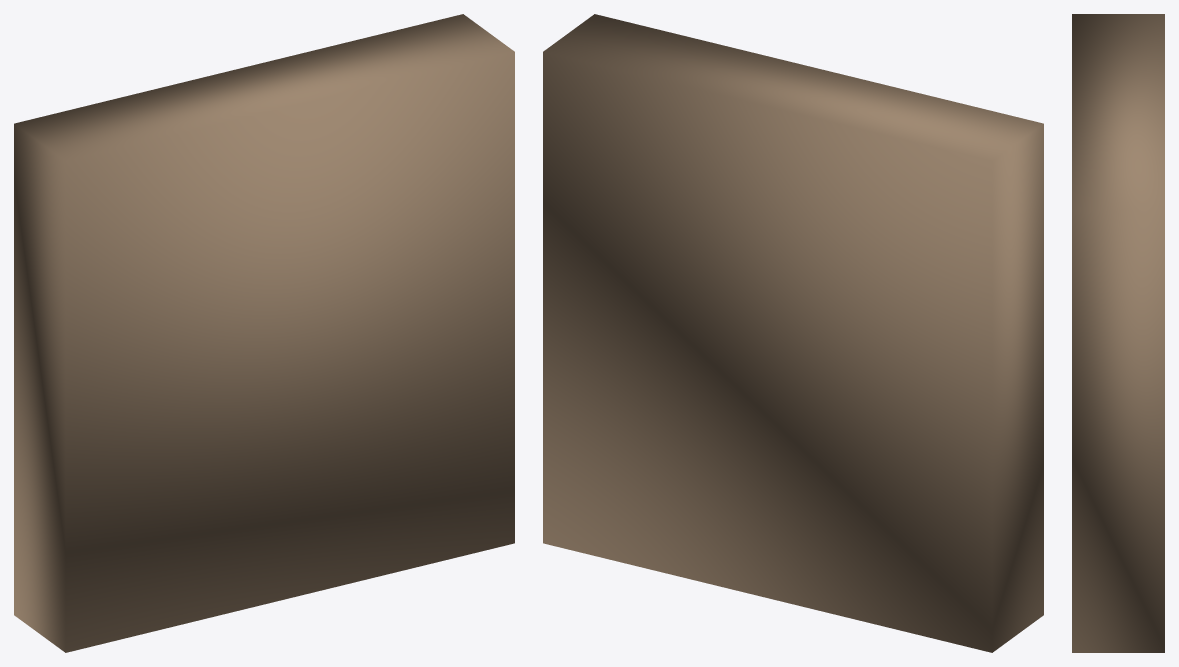
Rendered from back_bar_shelf__compact.glb.
The picture shows the model from 3 angles, left to right: view 1: azimuth 30°, elevation 25°; view 2: azimuth 150°, elevation 25°; view 3: azimuth 270°, elevation 25°; orthographic projection. The views are drawn at different scales.
Visible parts, largest first — view 1: world; view 2: world; view 3: world.
Part boxes in pixels (<box>): world: <box>14,14,514,652</box>; world: <box>543,14,1043,652</box>; world: <box>1072,14,1164,652</box>.
Bounding box in the file's own units: 1.51 × 1.58 × 0.301.
